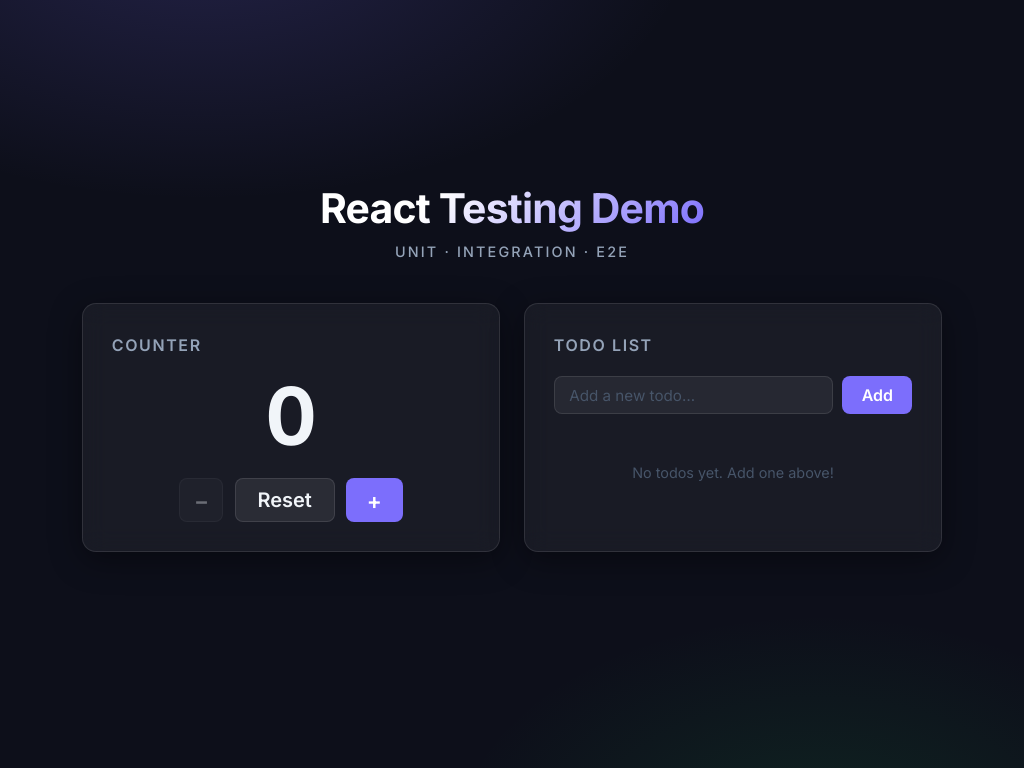
App — Integration Tests › Counter and TodoList work independently: counter state is preserved after adding a todo
Note: Increment the counter 3 times
Click the button "+": (374, 500) [346, 478, 402, 522]
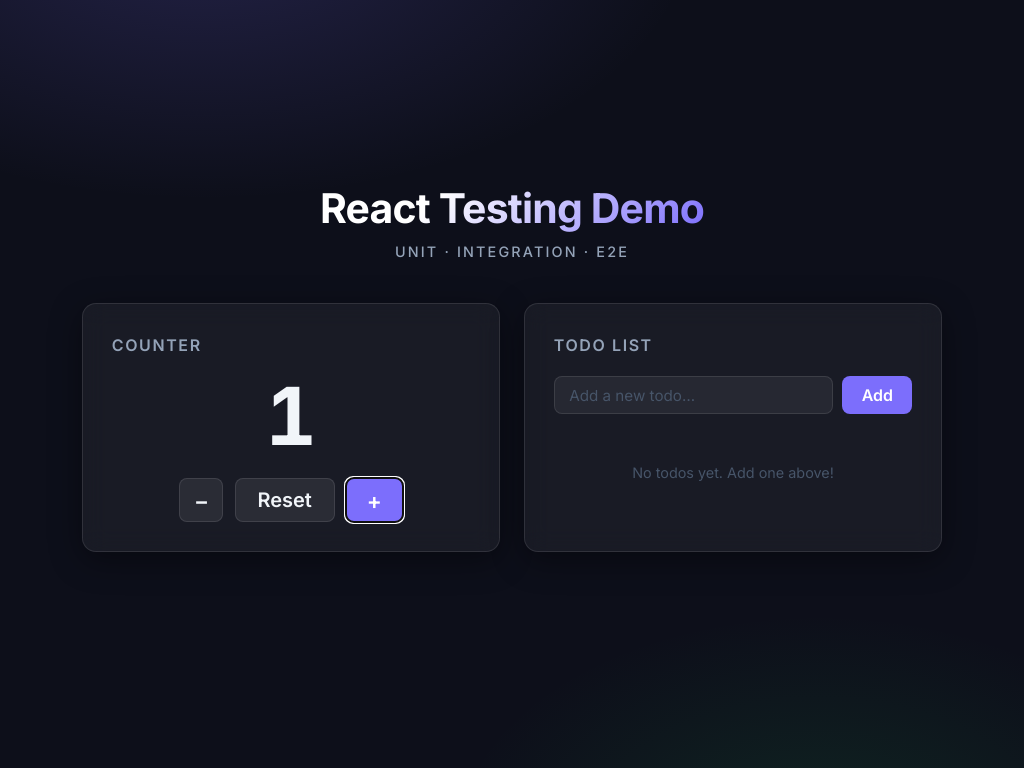
Click the button "+": (374, 500) [346, 478, 402, 522]
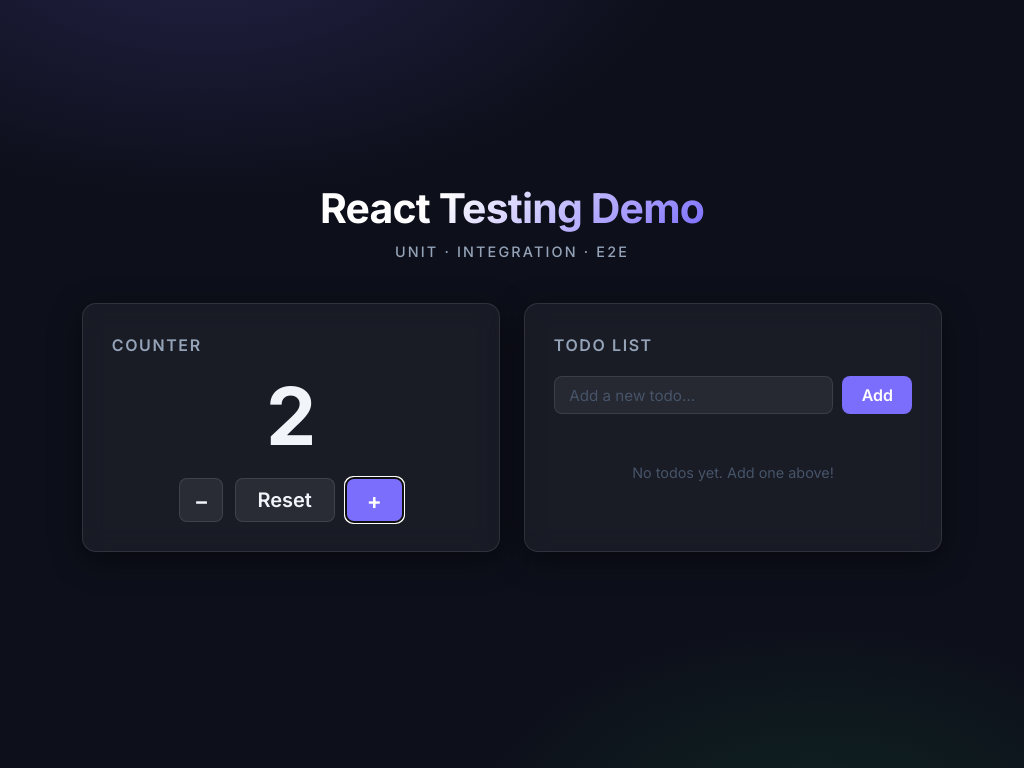
Click the button "+": (374, 500) [346, 478, 402, 522]
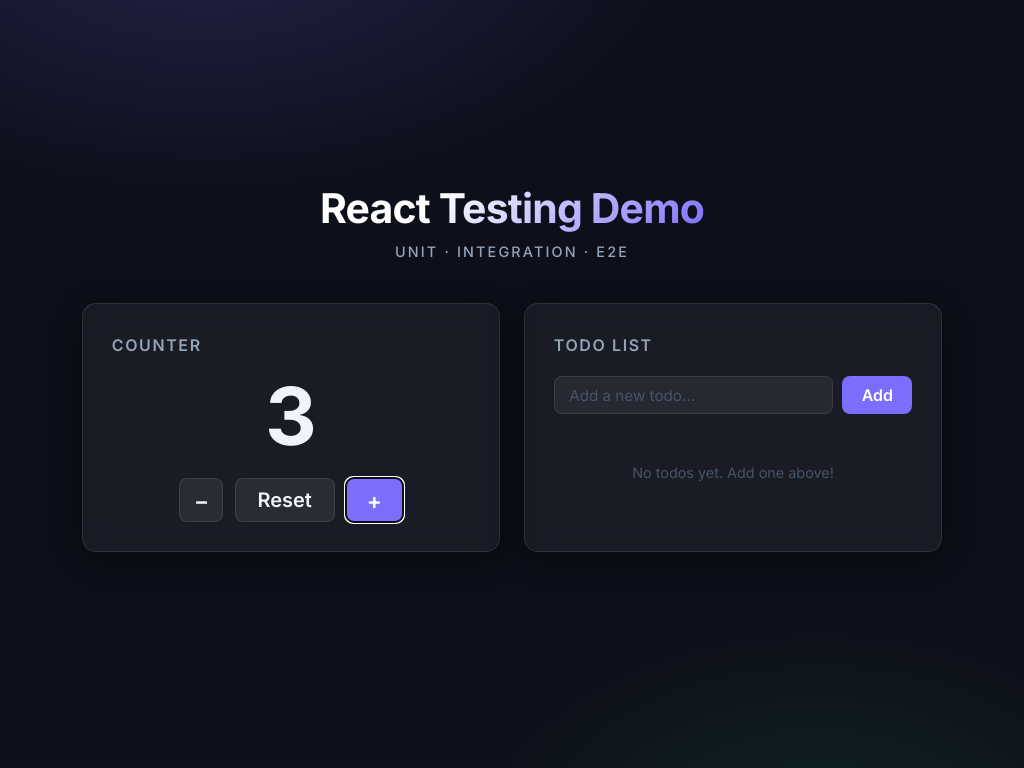
Expected: the text with test id "count-display" reads "3", [265, 367, 317, 464]
In the field labelled "Add a new todo…": (693, 395) [554, 376, 833, 414], type "Does not reset counter"
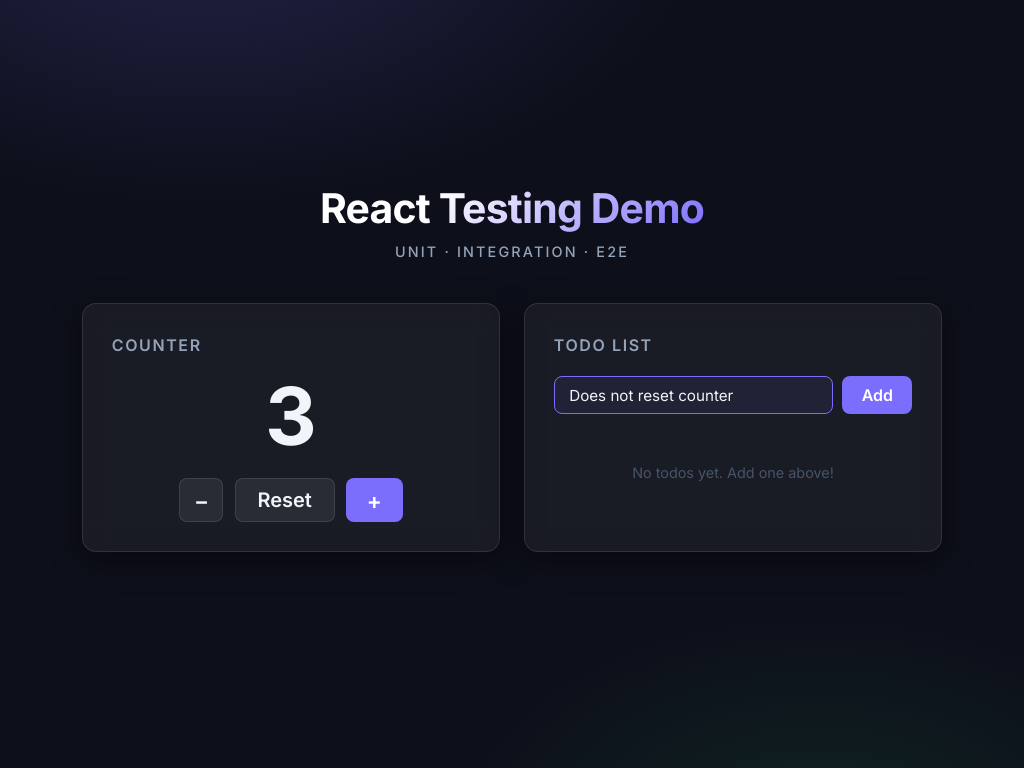
Click the button "Add": (877, 395) [842, 376, 912, 414]
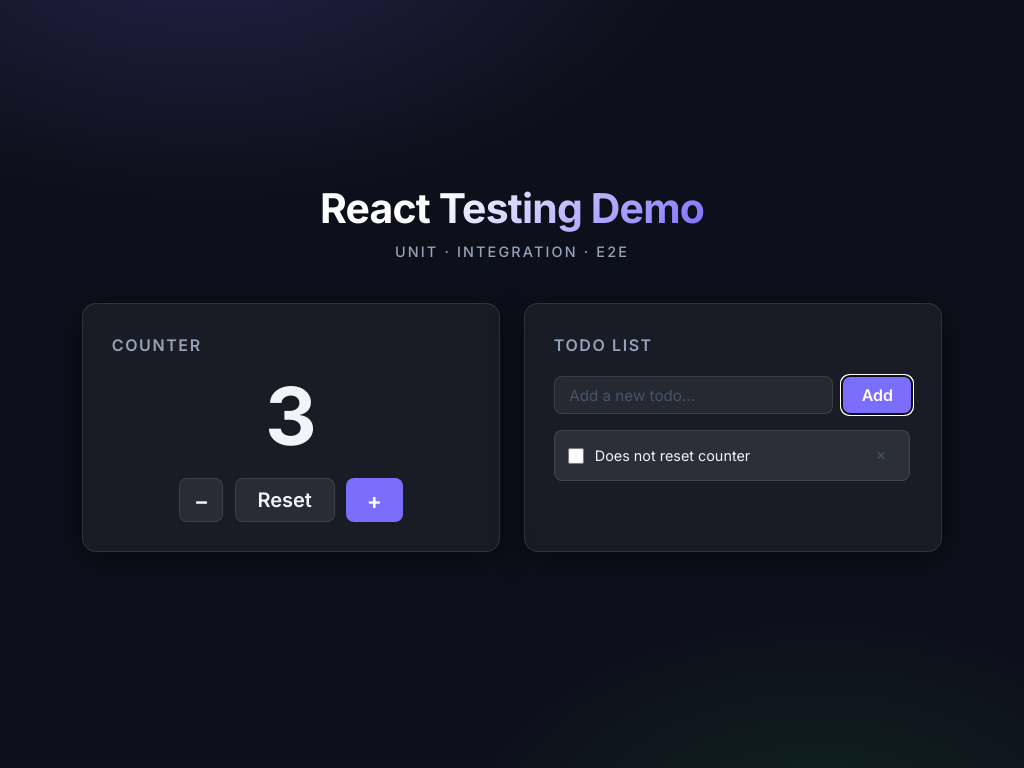
Expected: the text with test id "count-display" reads "3", [265, 367, 317, 464]
Expected: the text "Does not reset counter" is shown, [595, 447, 750, 464]
